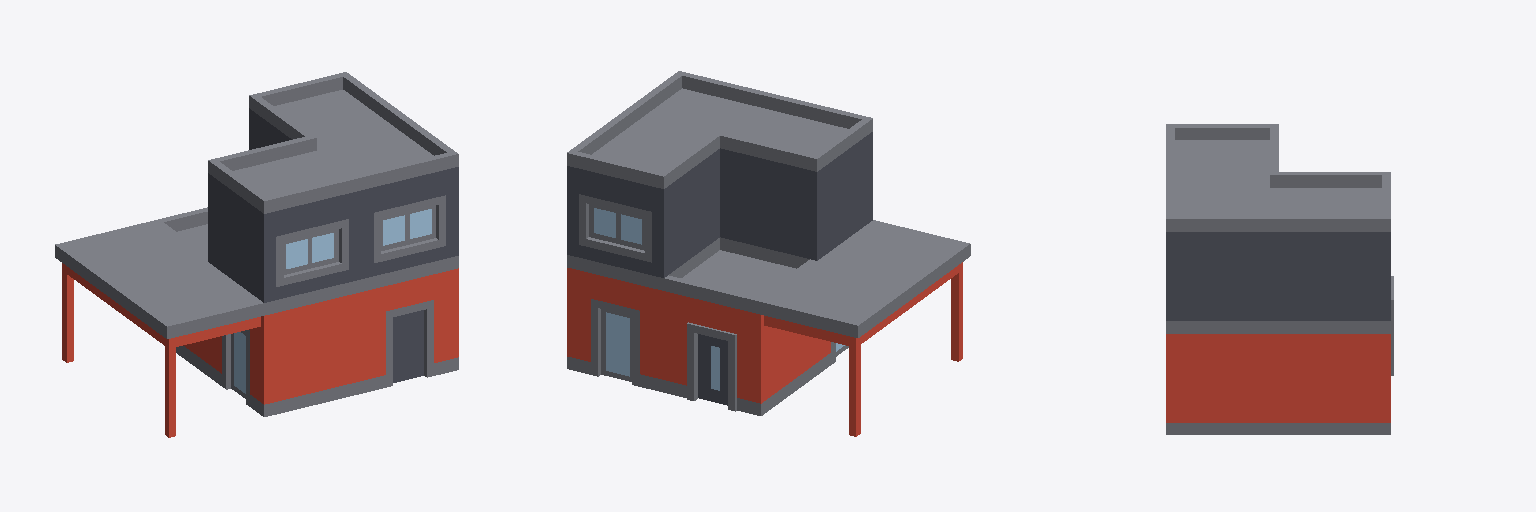
File: house_type19.obj
3 views of the same model, side by side, from view 1: azimuth 30°, elevation 25°; view 2: azimuth 150°, elevation 25°; view 3: azimuth 270°, elevation 25° (orthographic).
Visible parts, largest first — view 1: house_type19; view 2: house_type19; view 3: house_type19.
Part boxes in pixels (left/top/right/bottom): house_type19: left=55, top=72, right=458, bottom=437; house_type19: left=567, top=71, right=970, bottom=436; house_type19: left=1166, top=124, right=1393, bottom=434.
Bounding box in the file's own units: 1.2 × 0.85 × 0.81.